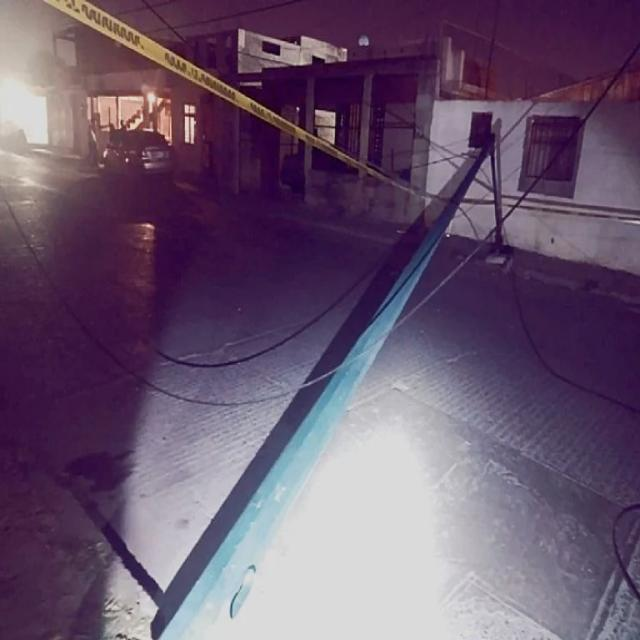Inclined Pole: (148, 125, 513, 640)
